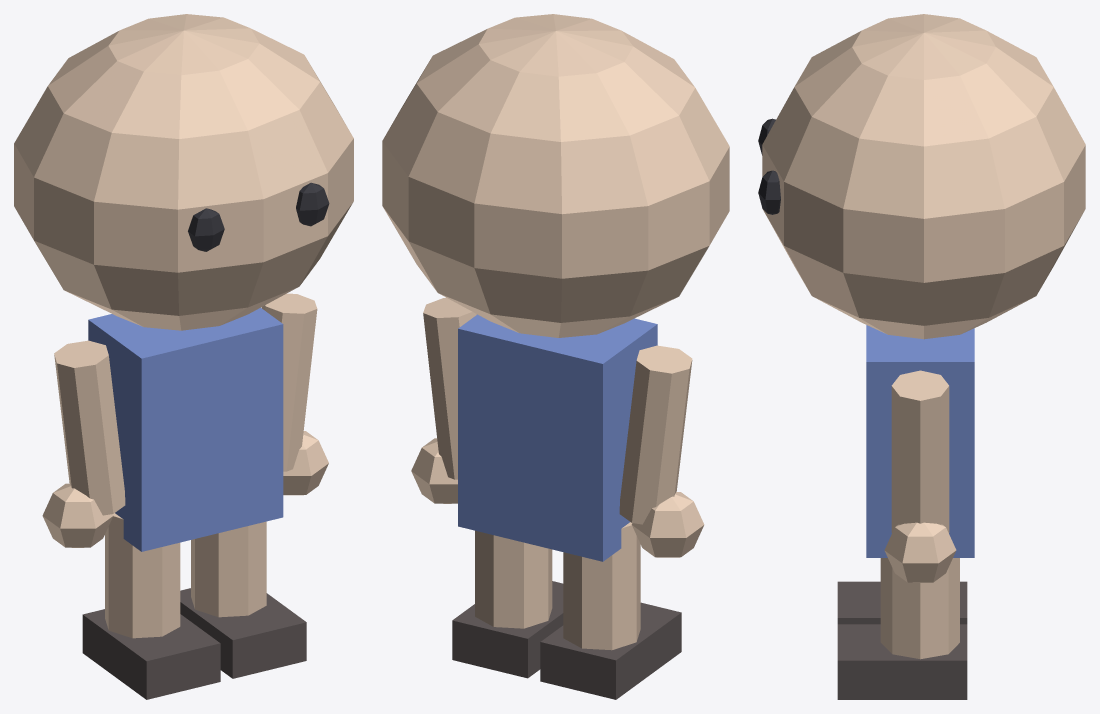
3 views of the same model, side by side, from view 1: azimuth 30°, elevation 25°; view 2: azimuth 150°, elevation 25°; view 3: azimuth 270°, elevation 25° (orthographic). The views are drawn at different scales.
Visible parts, largest first — view 1: Head, Torso, Arm, Foot, Leg, Leg.001, Foot.001, Arm.001, Hand, Hand.001, Eye, Eye.001; view 2: Head, Torso, Arm, Leg, Foot, Leg.001, Foot.001, Arm.001, Hand, Hand.001; view 3: Head, Torso, Arm.001, Foot.001, Leg.001, Hand.001, Foot, Eye.001.
Part boxes in pixels (left/top/right/bottom): Head: left=14, top=14, right=353, bottom=330; Torso: left=88, top=307, right=283, bottom=551; Arm: left=54, top=340, right=125, bottom=515; Foot: left=82, top=609, right=220, bottom=699; Leg: left=105, top=513, right=180, bottom=638; Leg.001: left=191, top=521, right=266, bottom=617; Foot.001: left=180, top=588, right=306, bottom=678; Arm.001: left=261, top=293, right=317, bottom=471; Hand: left=42, top=483, right=113, bottom=547; Hand.001: left=283, top=431, right=328, bottom=495; Eye: left=188, top=208, right=224, bottom=251; Eye.001: left=296, top=182, right=329, bottom=226; Head: left=382, top=14, right=729, bottom=337; Torso: left=458, top=314, right=657, bottom=561; Arm: left=619, top=345, right=692, bottom=524; Leg: left=563, top=522, right=640, bottom=650; Foot: left=540, top=602, right=681, bottom=699; Leg.001: left=475, top=530, right=552, bottom=628; Foot.001: left=452, top=581, right=563, bottom=678; Arm.001: left=423, top=297, right=476, bottom=479; Hand: left=631, top=492, right=704, bottom=557; Hand.001: left=411, top=438, right=457, bottom=503; Head: left=762, top=14, right=1085, bottom=339; Torso: left=866, top=325, right=974, bottom=557; Arm.001: left=891, top=370, right=949, bottom=532; Foot.001: left=837, top=624, right=967, bottom=699; Leg.001: left=880, top=558, right=959, bottom=659; Hand.001: left=884, top=522, right=956, bottom=582; Foot: left=837, top=581, right=967, bottom=624; Eye.001: left=758, top=170, right=780, bottom=214.
Size of the model in its own units: 0.4875 by 0.96 by 0.4542.
